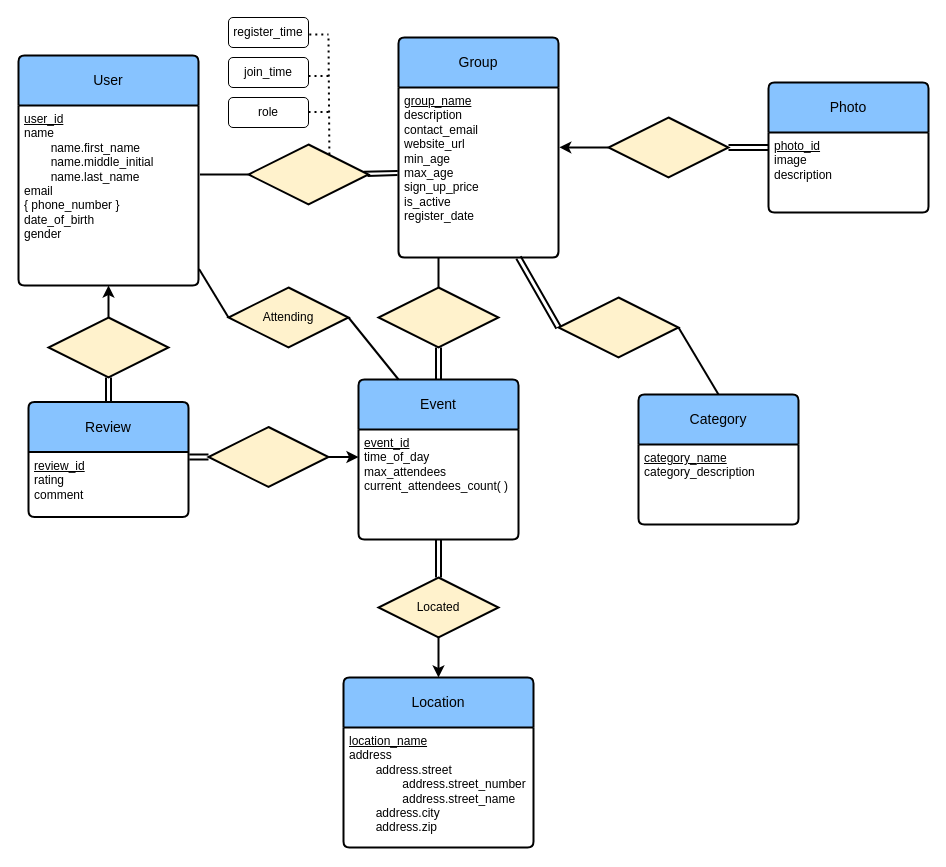
The diagram is 946 pixels wide and 867 high, and some of its shapes have lost their labels. The centre of each missing label's shape, as x and y in pixels:
About: pixel 268 457
Belongs: pixel 618 327
Hosts: pixel 438 317
Membership: pixel 308 174
Uploads: pixel 668 147
Writes: pixel 108 347
